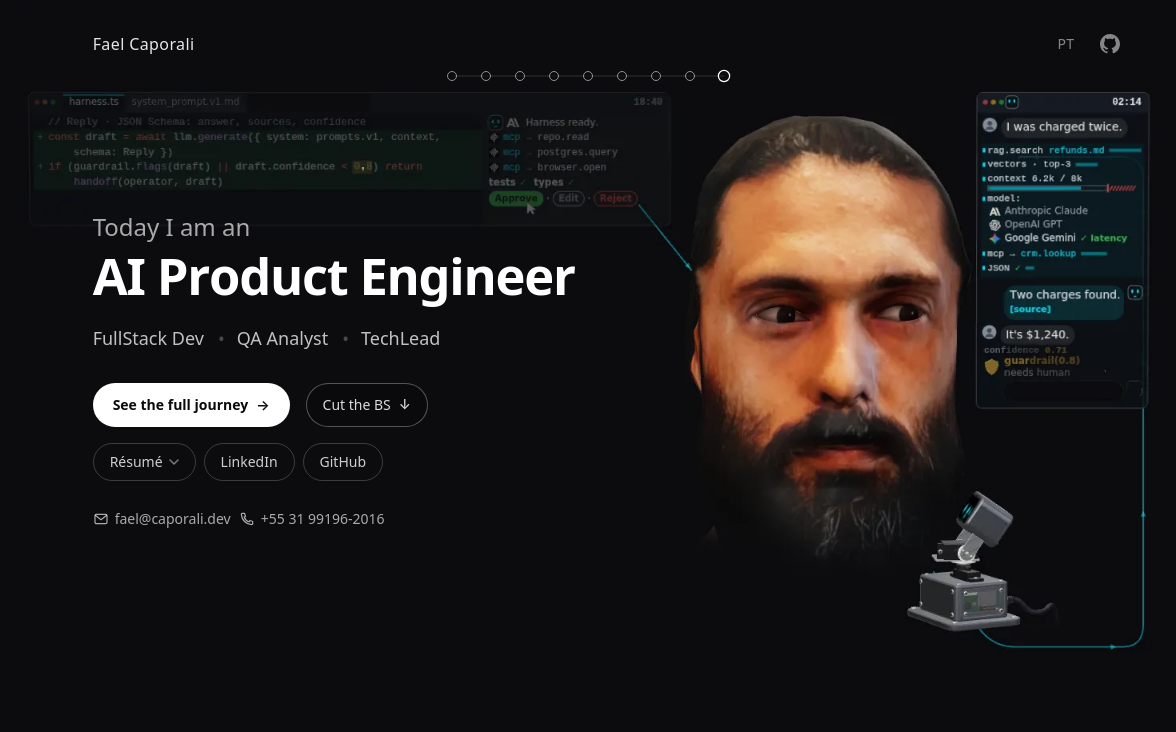
Scenario: herói sem aceleração de GPU: imagem no lugar do busto (Capítulo 11, 03-plano-versao-robos.md) › o clique no indicador troca a vida na hora, sem esperar o relógio
Step 1. Click the button named "Financial Assistant" → (452, 76), box [440, 64, 464, 88]
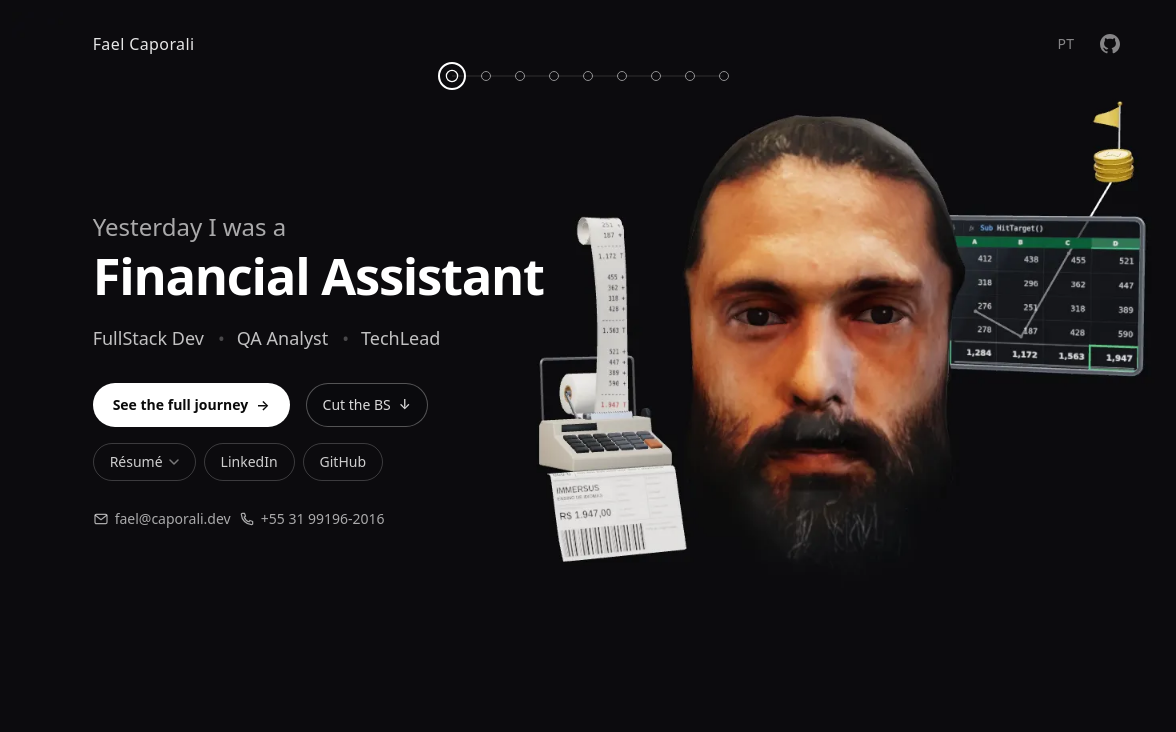
expect the picture named "Financial Assistant" is shown: met
